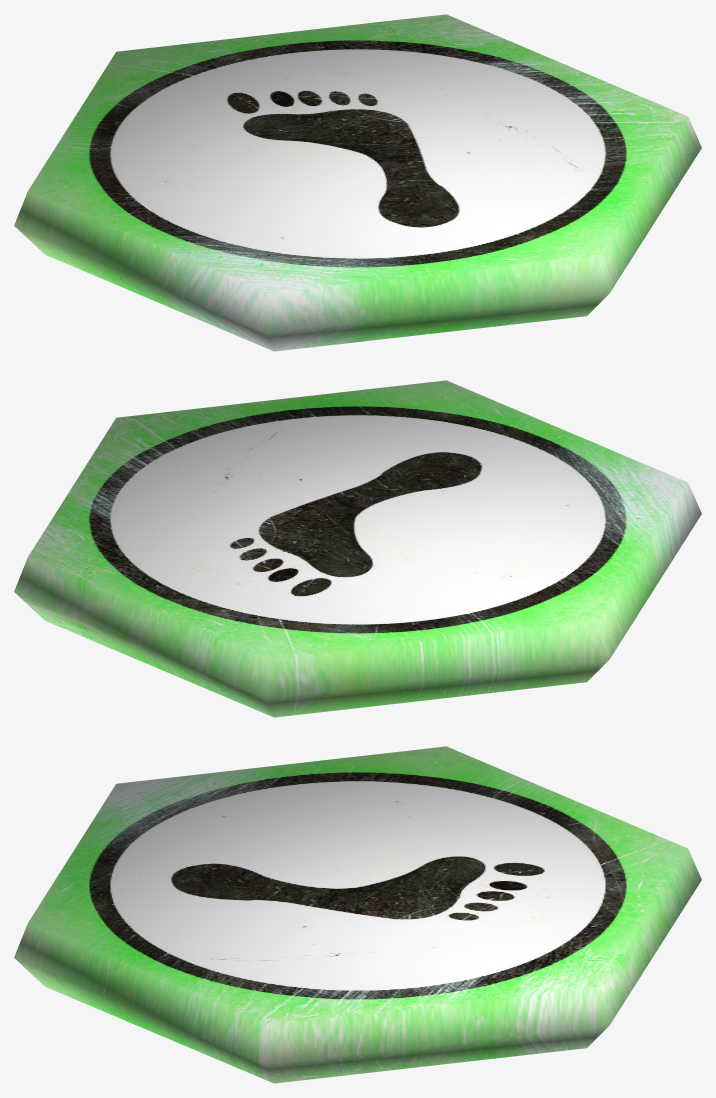
File: jumper.obj
3 views of the same model, one above another, from view 1: azimuth 30°, elevation 25°; view 2: azimuth 150°, elevation 25°; view 3: azimuth 270°, elevation 25° (orthographic).
Bounding box in the file's own units: 1.93 × 0.203 × 1.93.
1 material, 1 textured.
